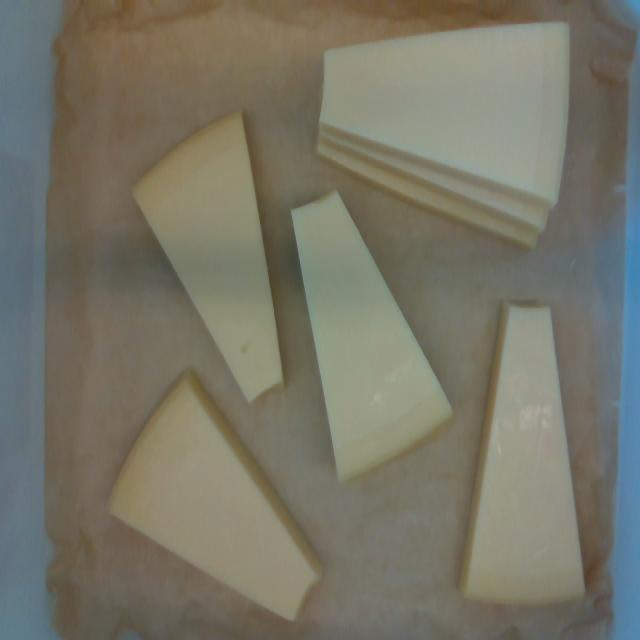cheese: (110, 375, 319, 619), (293, 193, 451, 479), (321, 23, 569, 201), (135, 116, 281, 400), (460, 301, 583, 603)
